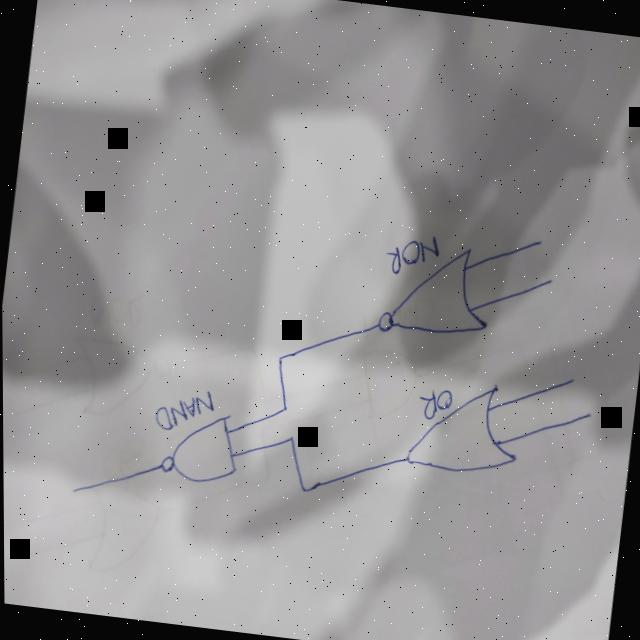junction: (271, 348, 290, 372), (295, 480, 312, 500), (275, 400, 291, 421), (286, 433, 298, 448)
terminal: (577, 408, 597, 427), (531, 234, 549, 254), (67, 482, 86, 500), (544, 275, 557, 290), (567, 376, 577, 386)
text: (152, 383, 217, 438), (383, 231, 443, 281), (416, 386, 454, 424)
